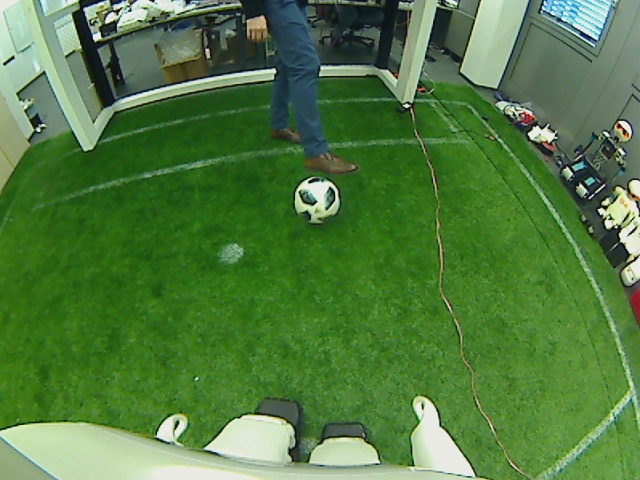ball: (292, 176, 342, 224)
